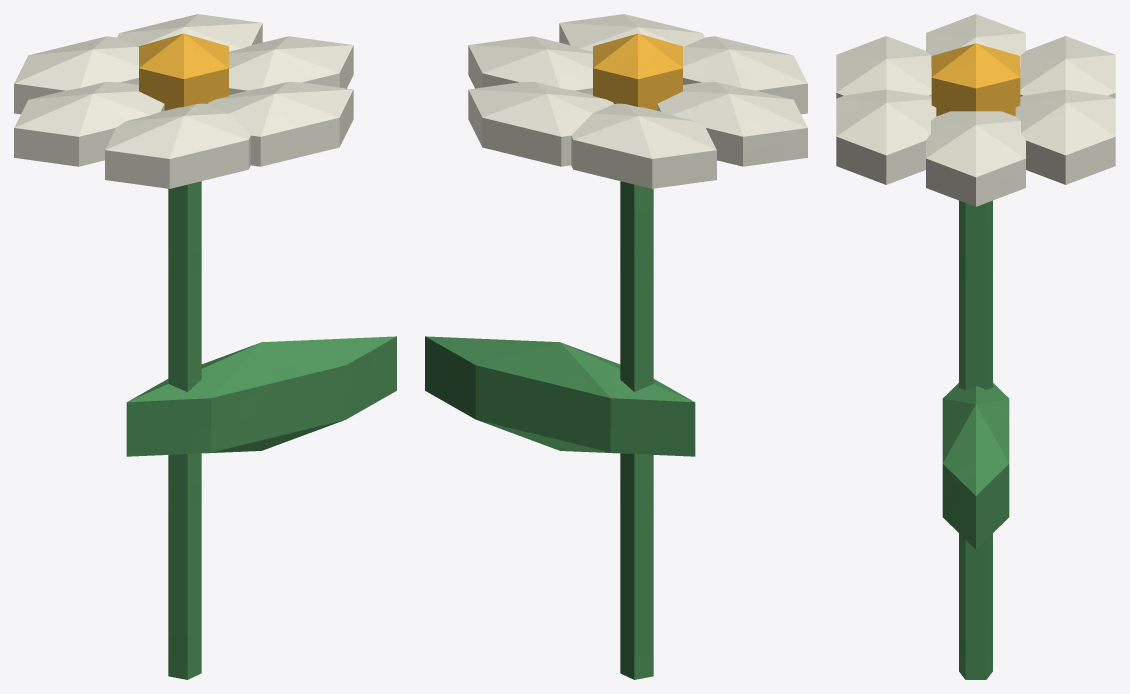
Rendered from gerbera.glb.
3 views of the same model, side by side, from view 1: azimuth 30°, elevation 25°; view 2: azimuth 150°, elevation 25°; view 3: azimuth 270°, elevation 25° (orthographic).
Parts seen in each view (by area): view 1: Stem leaf 002, Flower stem 001, Flower petal 007, Flower petal 006, Flower petal 008, Flower center 009, Flower petal 003, Flower petal 005, Flower petal 004; view 2: Stem leaf 002, Flower stem 001, Flower petal 005, Flower petal 006, Flower petal 004, Flower center 009, Flower petal 003, Flower petal 007, Flower petal 008; view 3: Flower stem 001, Stem leaf 002, Flower petal 003, Flower petal 004, Flower petal 008, Flower center 009, Flower petal 005, Flower petal 007, Flower petal 006.
Part boxes in pixels (x1,y1,x2,y2): Stem leaf 002: [126, 336, 396, 456]; Flower stem 001: [168, 181, 201, 679]; Flower petal 007: [105, 103, 250, 188]; Flower petal 006: [14, 82, 164, 166]; Flower petal 008: [208, 82, 353, 166]; Flower center 009: [139, 33, 228, 110]; Flower petal 003: [229, 36, 353, 94]; Flower petal 005: [14, 36, 138, 114]; Flower petal 004: [117, 14, 262, 51]; Stem leaf 002: [425, 336, 695, 456]; Flower stem 001: [620, 181, 653, 679]; Flower petal 005: [571, 103, 716, 188]; Flower petal 006: [657, 82, 807, 166]; Flower petal 004: [468, 82, 613, 166]; Flower center 009: [593, 33, 682, 110]; Flower petal 003: [468, 36, 592, 94]; Flower petal 007: [683, 36, 807, 114]; Flower petal 008: [559, 14, 704, 51]; Flower stem 001: [959, 200, 992, 679]; Stem leaf 002: [942, 383, 1009, 549]; Flower petal 003: [926, 111, 1025, 206]; Flower petal 004: [1015, 89, 1115, 184]; Flower petal 008: [836, 89, 936, 184]; Flower center 009: [931, 43, 1020, 116]; Flower petal 005: [1020, 36, 1115, 98]; Flower petal 007: [836, 36, 931, 98]; Flower petal 006: [926, 14, 1025, 67].
Size of the model in its own units: 0.2945 by 0.47 by 0.1887.
Materials: 3 (3 with a texture image).
